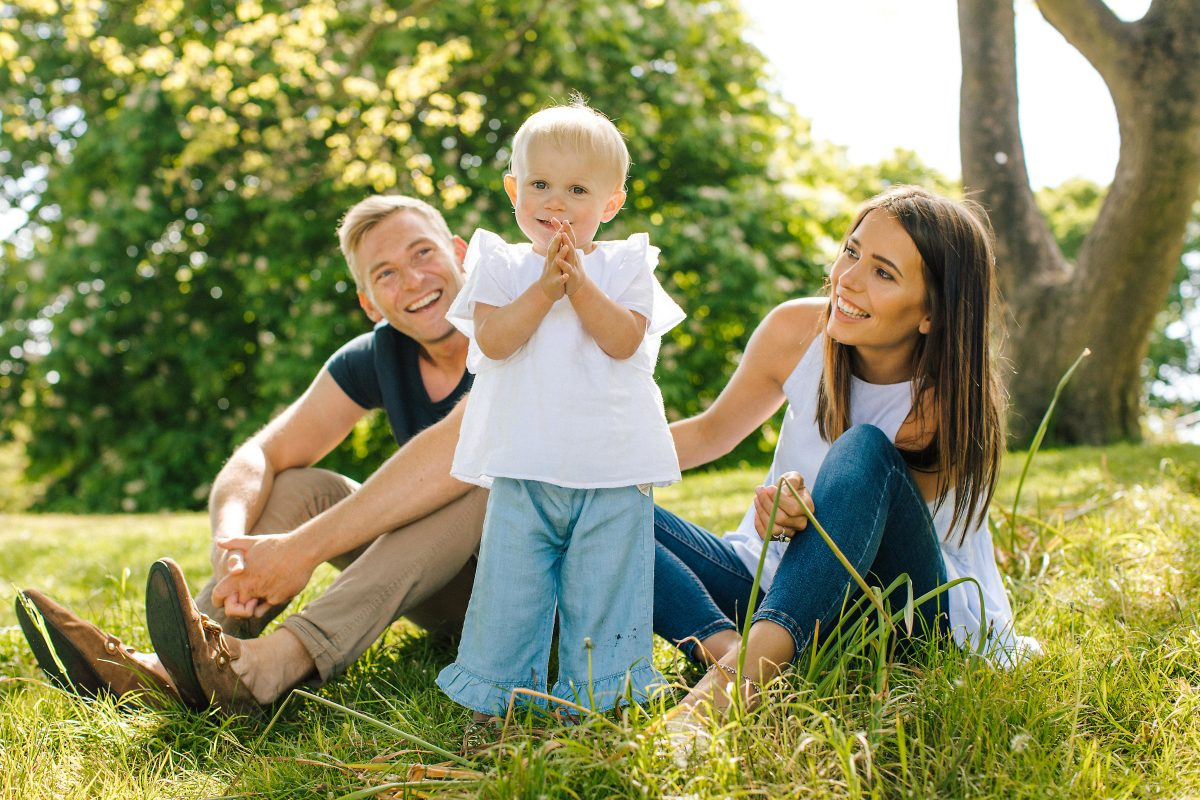Person: (135, 193, 488, 770), (747, 182, 994, 764), (482, 123, 688, 729)
